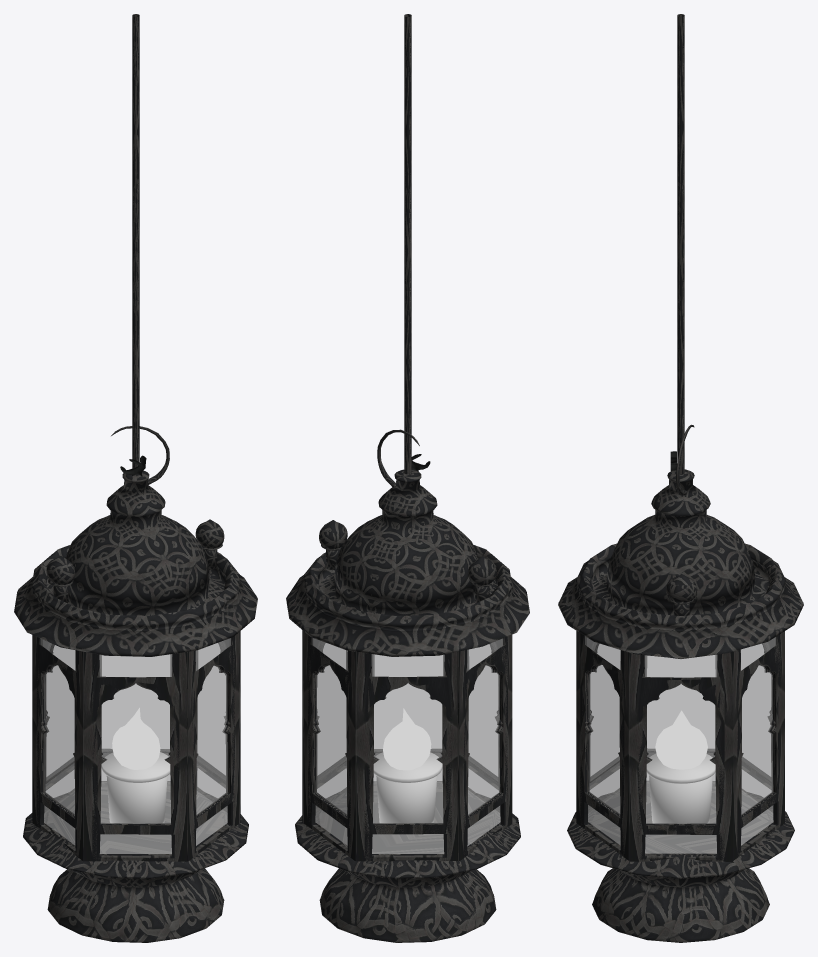
File: arabian_lamp.glb
The picture shows the model from 3 angles, left to right: view 1: azimuth 30°, elevation 25°; view 2: azimuth 150°, elevation 25°; view 3: azimuth 270°, elevation 25°; orthographic projection.
Visible parts, largest first — view 1: Plane_0, Cylinder.006_20, Plane.003_11, Cube.007_16, Cube.003_10, Cube.006_15, NurbsPath_9, Plane.008_21, Cylinder.004_18, Cube.009_17, Cylinder.005_19, Cube.002_12 (+3 smaller); view 2: Plane_0, Cylinder.006_20, Plane.003_11, Cube.005_14, Cube.006_15, Cube.004_13, NurbsPath_9, Plane.008_21, Cylinder.004_18, Cube.009_17, Cylinder.005_19, Cube.002_12 (+3 smaller); view 3: Plane_0, Cylinder.006_20, Plane.003_11, Cube.002_12, Cube.003_10, Cube.004_13, NurbsPath_9, Plane.008_21, Cylinder.004_18, Cube.009_17, Cylinder.005_19, Cube.007_16 (+2 smaller).
Part boxes in pixels (x1,y1,x2,y2): Plane_0: [14, 470, 257, 656]; Cylinder.006_20: [40, 638, 230, 853]; Plane.003_11: [23, 793, 248, 942]; Cube.007_16: [84, 652, 186, 861]; Cube.003_10: [187, 632, 239, 861]; Cube.006_15: [32, 635, 83, 861]; NurbsPath_9: [132, 14, 139, 468]; Plane.008_21: [47, 786, 224, 855]; Cylinder.004_18: [106, 776, 167, 823]; Cube.009_17: [112, 708, 160, 769]; Cylinder.005_19: [101, 752, 170, 782]; Cube.002_12: [196, 631, 240, 823]; Plane_0: [286, 469, 529, 656]; Cylinder.006_20: [312, 638, 502, 853]; Plane.003_11: [295, 788, 520, 942]; Cube.005_14: [356, 652, 457, 861]; Cube.006_15: [457, 635, 512, 861]; Cube.004_13: [304, 632, 356, 861]; NurbsPath_9: [404, 14, 411, 474]; Plane.008_21: [319, 786, 496, 855]; Cylinder.004_18: [376, 776, 437, 823]; Cube.009_17: [383, 708, 431, 770]; Cylinder.005_19: [373, 752, 442, 782]; Cube.002_12: [302, 630, 347, 823]; Plane_0: [558, 469, 803, 658]; Cylinder.006_20: [585, 636, 775, 853]; Plane.003_11: [567, 792, 794, 942]; Cube.002_12: [629, 651, 732, 861]; Cube.003_10: [576, 631, 629, 860]; Cube.004_13: [733, 631, 784, 860]; NurbsPath_9: [677, 14, 684, 474]; Plane.008_21: [591, 784, 770, 854]; Cylinder.004_18: [649, 775, 712, 823]; Cube.009_17: [655, 710, 707, 769]; Cylinder.005_19: [646, 753, 715, 783]; Cube.007_16: [586, 637, 620, 819].
Bounding box in the file's own units: 1.99 × 7.75 × 1.94.
6 materials, 3 textured.
